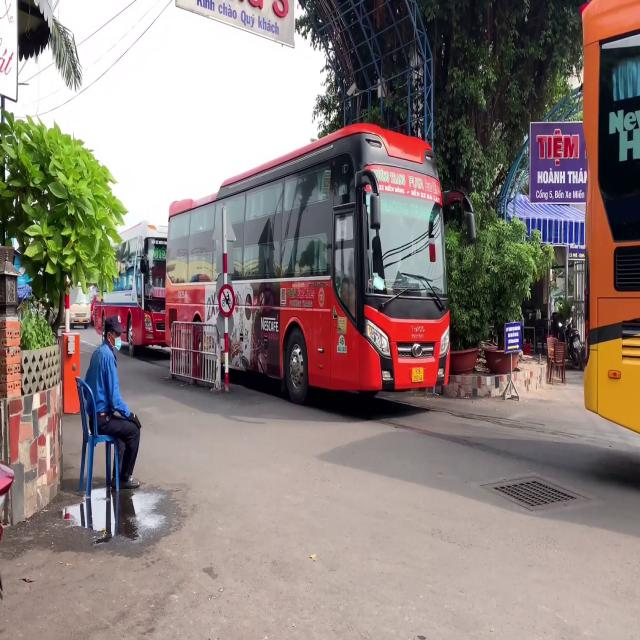bien_vang: (412, 365, 424, 384)
